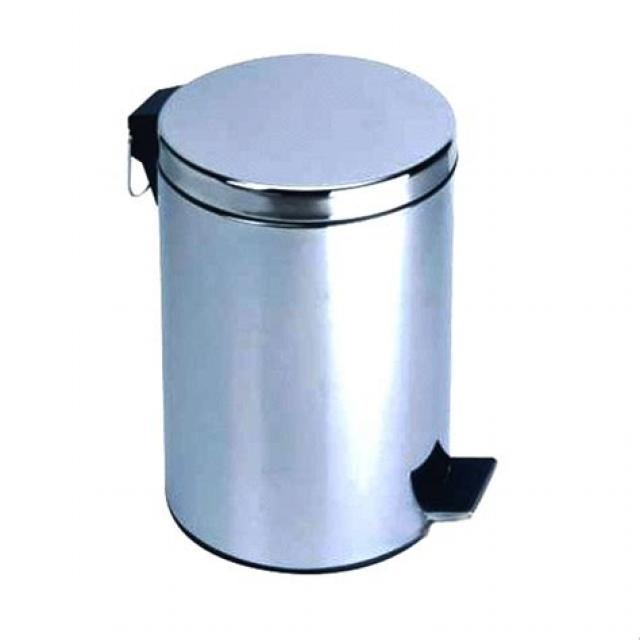garbage container: (111, 46, 507, 576)
